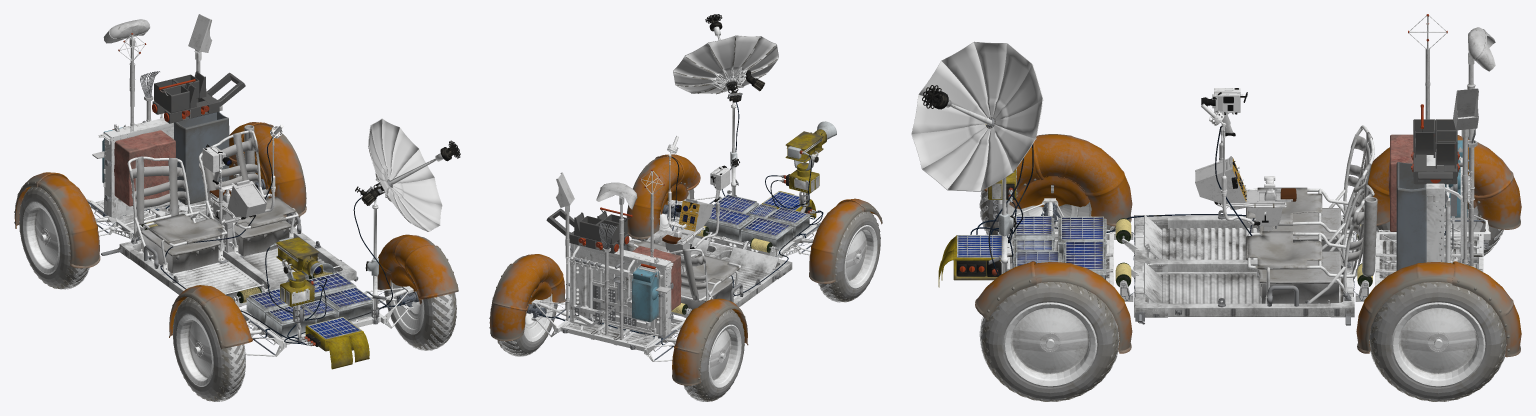
Rendered from lunar_rove.glb.
The picture shows the model from 3 angles, left to right: view 1: azimuth 30°, elevation 25°; view 2: azimuth 150°, elevation 25°; view 3: azimuth 270°, elevation 25°; orthographic projection. The views are drawn at different scales.
Visible parts, largest first — view 1: ApolloRoverRig__1.001_2, Wheel_RF, Wheel_RR, Fender_LF, Fender_RR, Fender_LR, Wheel_LF, Fender_RF; view 2: ApolloRoverRig__1.001_2, Fender_LR, Fender_LF, Wheel_RF, Wheel_RR, Fender_RR, Fender_RF, Wheel_LR; view 3: ApolloRoverRig__1.001_2, Wheel_LF, Wheel_LR, Fender_RF, Fender_LR, Fender_RR, Fender_LF, Wheel_RF, Wheel_RR.
Boxes of the visible parts, x1,y1,x2,y2 form: ApolloRoverRig__1.001_2: (86,14,460,369); Wheel_RF: (172,297,245,401); Wheel_RR: (19,186,89,289); Fender_LF: (377,234,458,304); Fender_RR: (14,172,100,268); Fender_LR: (229,122,306,216); Wheel_LF: (384,279,456,350); Fender_RF: (169,285,252,349); ApolloRoverRig__1.001_2: (527,14,836,361); Fender_LR: (489,254,565,341); Fender_LF: (626,154,700,239); Wheel_RF: (818,211,880,302); Wheel_RR: (684,309,744,401); Fender_RR: (672,298,748,385); Fender_RF: (809,198,882,283); Wheel_LR: (497,293,557,356); ApolloRoverRig__1.001_2: (911,14,1495,325); Wheel_LF: (979,282,1119,401); Wheel_LR: (1369,282,1506,401); Fender_RF: (984,134,1132,226); Fender_LR: (1356,261,1521,357); Fender_RR: (1361,135,1521,229); Fender_LF: (975,261,1132,353); Wheel_RF: (979,185,1115,234); Wheel_RR: (1376,206,1503,256).
Bounding box in the file's own units: 1.78 × 1.77 × 3.1.
9 materials, 7 textured.
